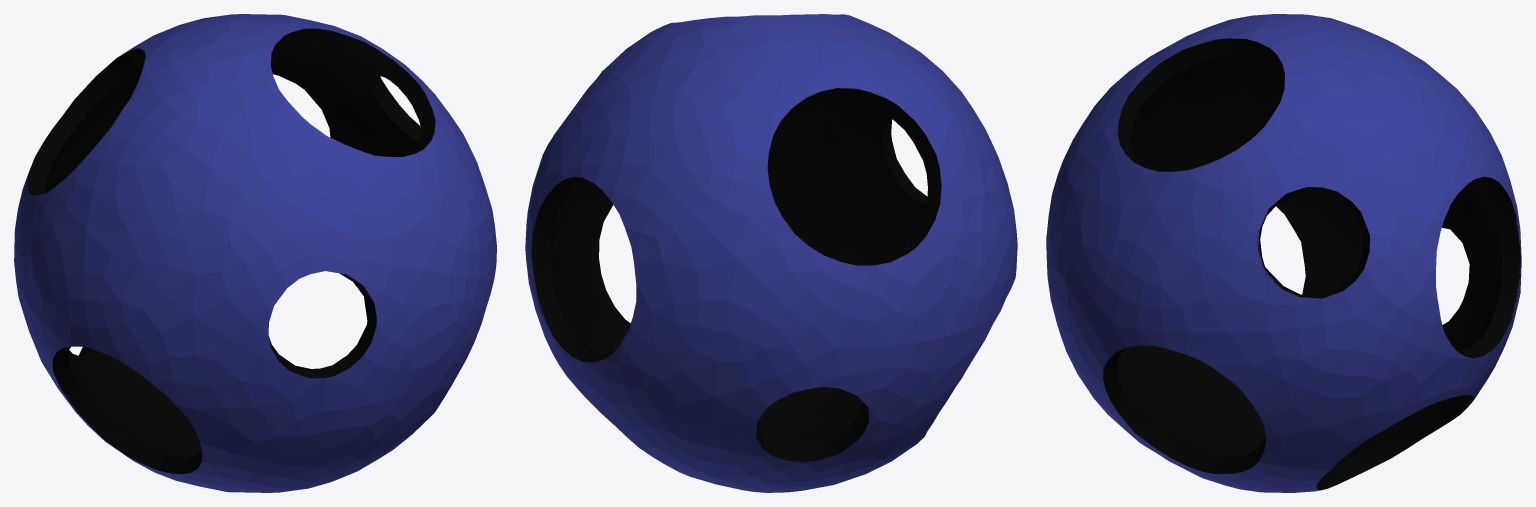
File: BluePlanet.fbx
3 views of the same model, side by side, from view 1: azimuth 30°, elevation 25°; view 2: azimuth 150°, elevation 25°; view 3: azimuth 270°, elevation 25° (orthographic). The views are drawn at different scales.
Visible parts, largest first — view 1: BluePlanet; view 2: BluePlanet; view 3: BluePlanet.
Part boxes in pixels (x1,y1,x2,y2): BluePlanet: (14,14,496,492); BluePlanet: (525,14,1017,492); BluePlanet: (1046,14,1521,492).
Bounding box in the file's own units: 186 × 185 × 184.
Materials: 1 (1 with a texture image).
